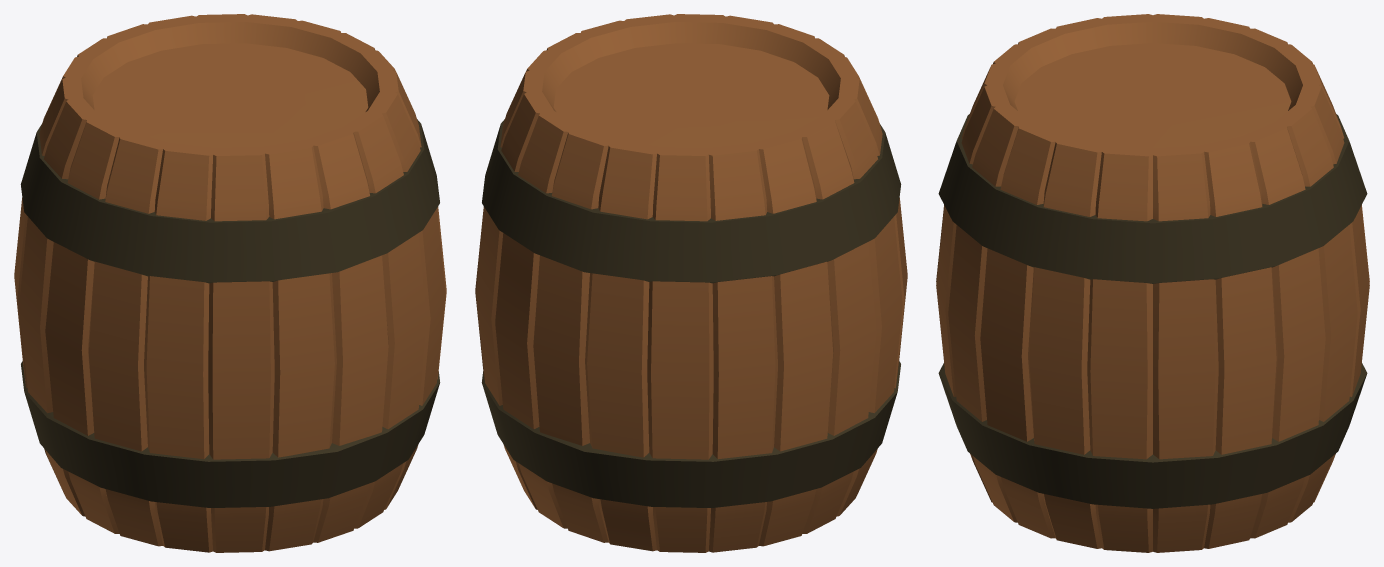
Rendered from CI_102_barrel.glb.
3 views of the same model, side by side, from view 1: azimuth 30°, elevation 25°; view 2: azimuth 150°, elevation 25°; view 3: azimuth 270°, elevation 25° (orthographic).
Visible parts, largest first — view 1: barrel; view 2: barrel; view 3: barrel.
Boxes of the visible parts, left/top/right/bottom form: barrel: left=14, top=14, right=446, bottom=552; barrel: left=475, top=14, right=907, bottom=552; barrel: left=936, top=14, right=1369, bottom=552.
Bounding box in the file's own units: 1.49 × 1.5 × 1.49.
